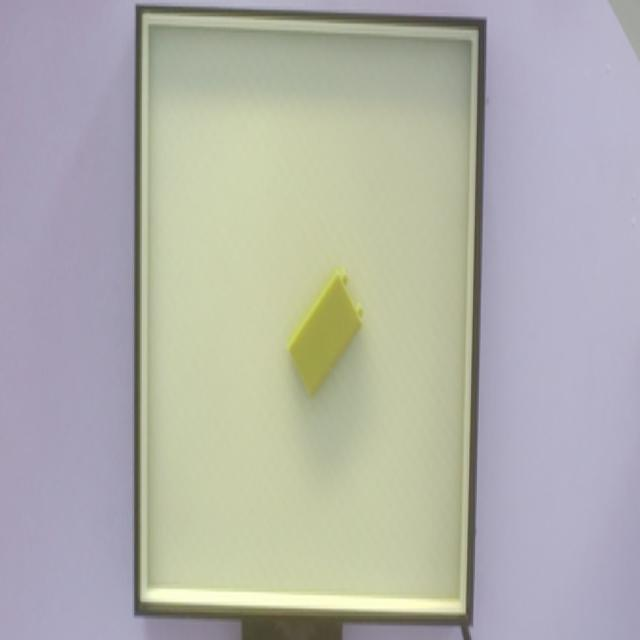bateria: (285, 267, 364, 402)
mesa: (135, 6, 487, 627)
